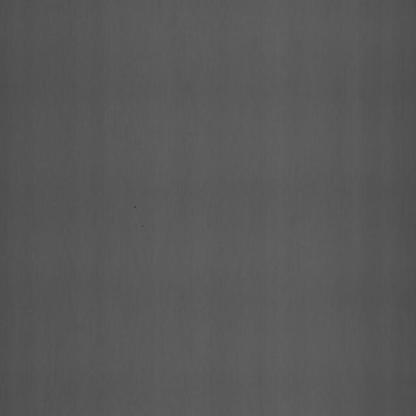inclusion: (131, 198, 144, 230)
